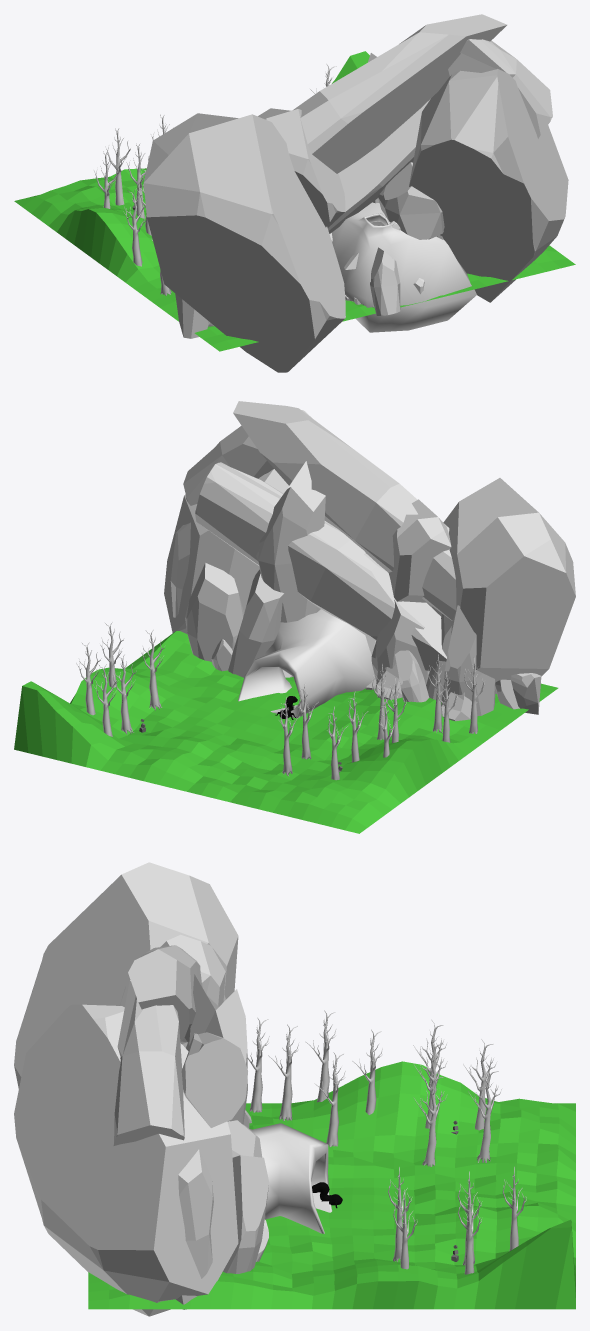
The model's file is Map1_1.fbx.
3 views of the same model, one above another, from view 1: azimuth 30°, elevation 25°; view 2: azimuth 150°, elevation 25°; view 3: azimuth 270°, elevation 25° (orthographic). The views are drawn at different scales.
Visible parts, largest first — view 1: Icosphere.036, Icosphere.035, Icosphere.037, Plane, Cueva.001, Icosphere.034, Icosphere.040, Icosphere.039, Icosphere.004, Icosphere.006, Cube.003, Arbol 5.014 (+2 smaller); view 2: Plane, Icosphere.036, Icosphere.034, Icosphere.037, Cueva.001, Icosphere.041, Icosphere.035, Icosphere.027, Icosphere.040, Icosphere.012, Icosphere.032, Icosphere.039 (+10 smaller); view 3: Plane, Icosphere.035, Icosphere.036, Icosphere.039, Cueva.001, Icosphere.034, Icosphere.037, Icosphere.027, Icosphere.033, Icosphere.041, Icosphere.040, Icosphere.012 (+12 smaller).
Boxes of the visible parts, x1,y1,x2,y2 form: Icosphere.036: [143, 113, 345, 372]; Icosphere.035: [409, 69, 568, 302]; Icosphere.037: [292, 14, 507, 173]; Plane: [14, 51, 575, 351]; Cueva.001: [332, 202, 476, 332]; Icosphere.034: [328, 99, 430, 233]; Icosphere.040: [258, 108, 345, 227]; Icosphere.039: [448, 39, 552, 138]; Icosphere.004: [378, 162, 444, 239]; Icosphere.006: [370, 247, 400, 315]; Cube.003: [175, 294, 208, 338]; Arbol 5.014: [123, 188, 146, 266]; Plane: [14, 631, 558, 833]; Icosphere.036: [432, 478, 575, 693]; Icosphere.034: [195, 462, 446, 671]; Icosphere.037: [233, 401, 456, 620]; Cueva.001: [238, 609, 375, 718]; Icosphere.041: [256, 461, 325, 622]; Icosphere.035: [164, 410, 311, 632]; Icosphere.027: [185, 563, 244, 661]; Icosphere.040: [388, 499, 451, 607]; Icosphere.012: [228, 569, 284, 677]; Icosphere.032: [444, 605, 495, 715]; Icosphere.039: [183, 426, 273, 505]; Plane: [88, 1061, 575, 1309]; Icosphere.035: [14, 1004, 238, 1316]; Icosphere.036: [14, 862, 238, 1088]; Icosphere.039: [113, 980, 184, 1145]; Cueva.001: [249, 1123, 332, 1233]; Icosphere.034: [181, 1032, 247, 1127]; Icosphere.037: [128, 945, 202, 1043]; Icosphere.027: [223, 1155, 269, 1273]; Icosphere.033: [176, 1149, 213, 1309]; Icosphere.041: [189, 974, 247, 1124]; Icosphere.040: [119, 934, 225, 1047]; Icosphere.012: [227, 1120, 265, 1218].
Bounding box in the file's own units: 11835 × 7485 × 11527.
